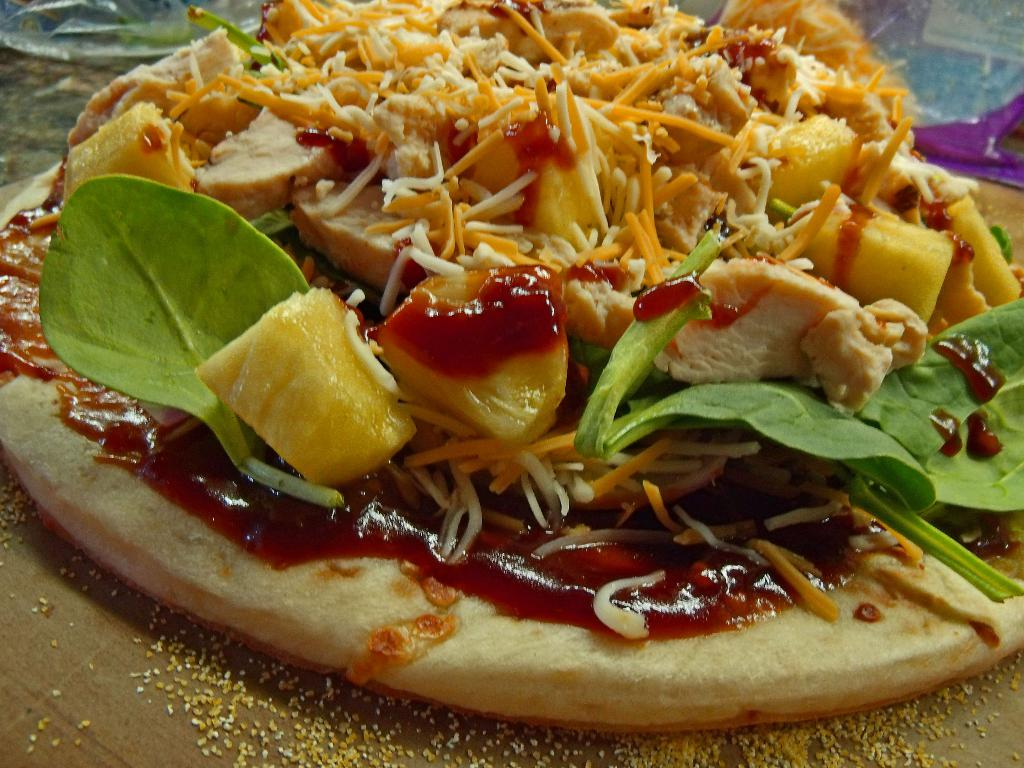Pizza: (0, 44, 1003, 746)
